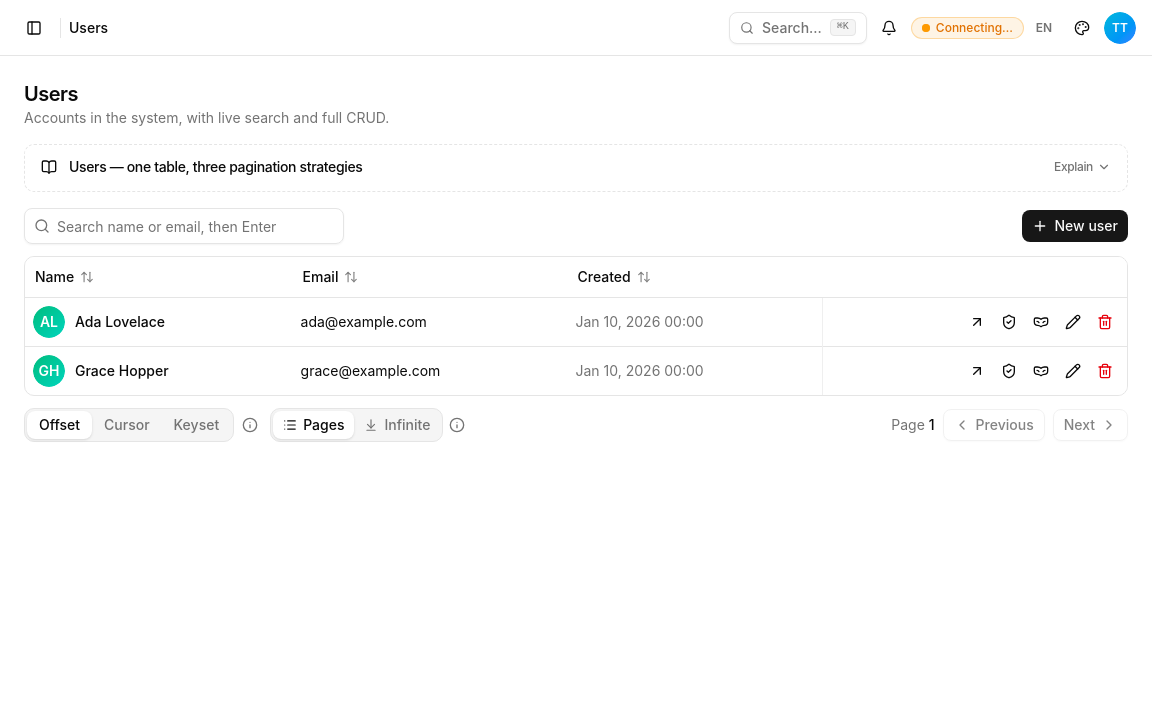
Test: admin users table › edits a user through the dialog
The width and height of the screenshot is (1152, 720).
Expected: the heading "Users" is shown, [24,82,78,106]
Click the button named "Edit ada@example.com" at (1073, 322), box [1059,308,1087,336]
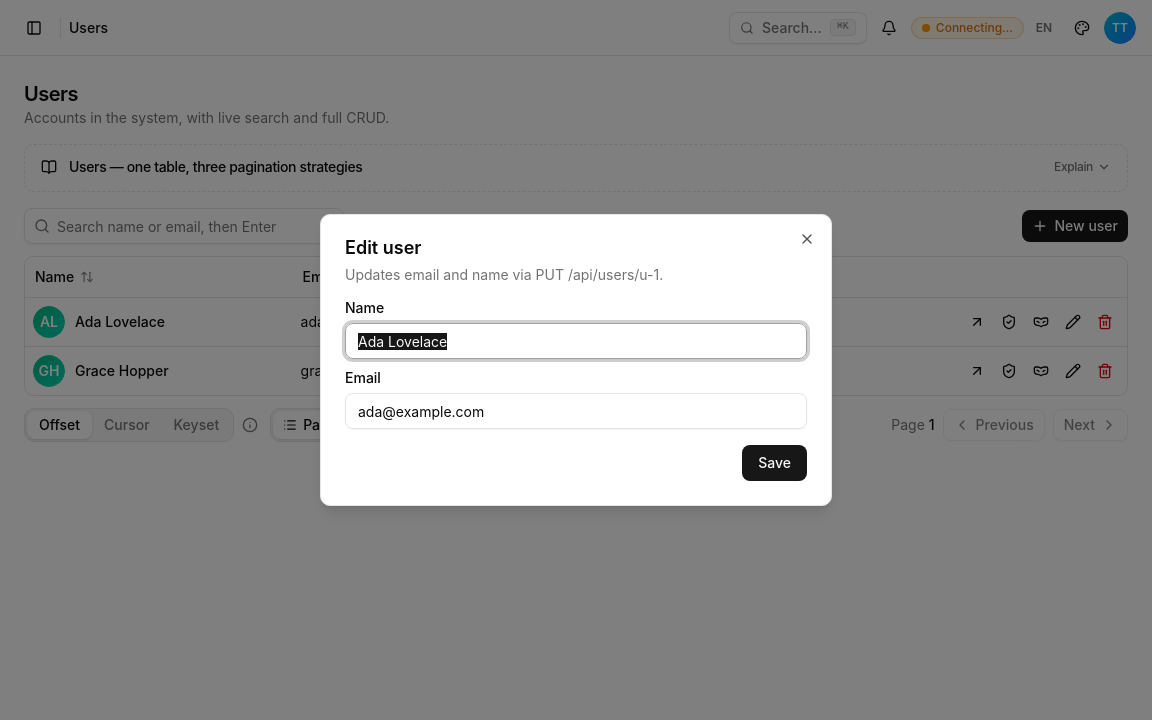
Now the heading "Edit user" is shown, box [345,237,421,258]
Type "Ada King" into the field labelled "Name" at (576, 341), box [345,323,807,359]
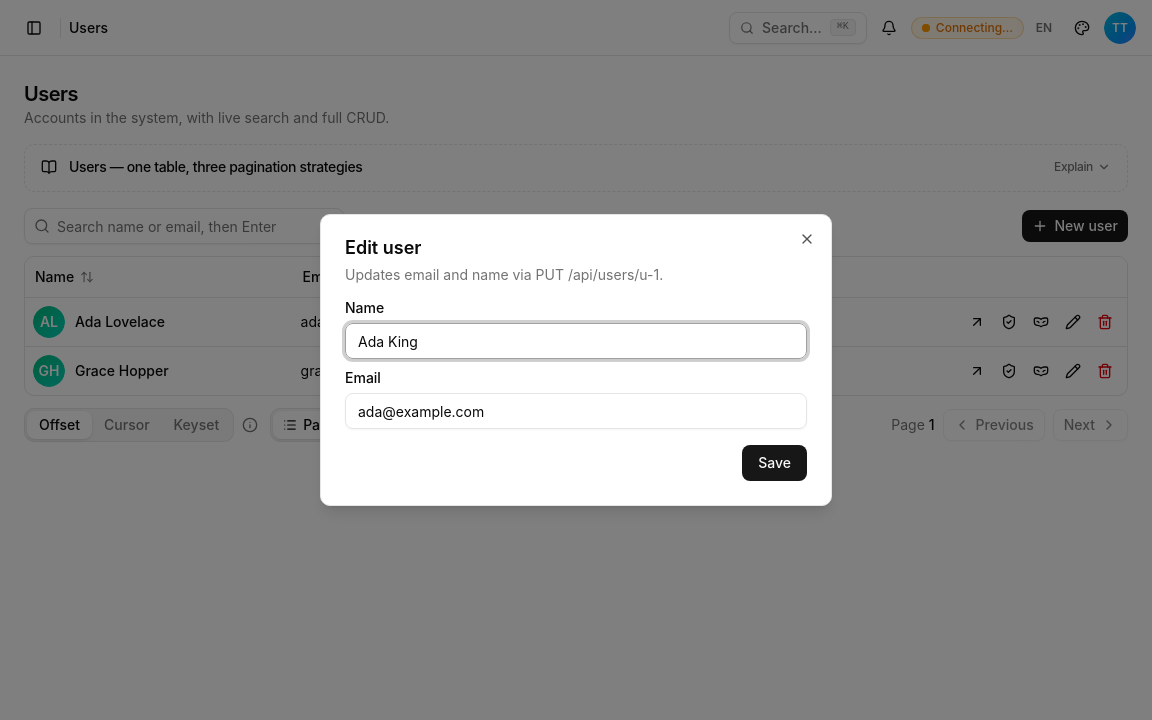
Click the button "Save" at (775, 463), box [742,445,807,481]
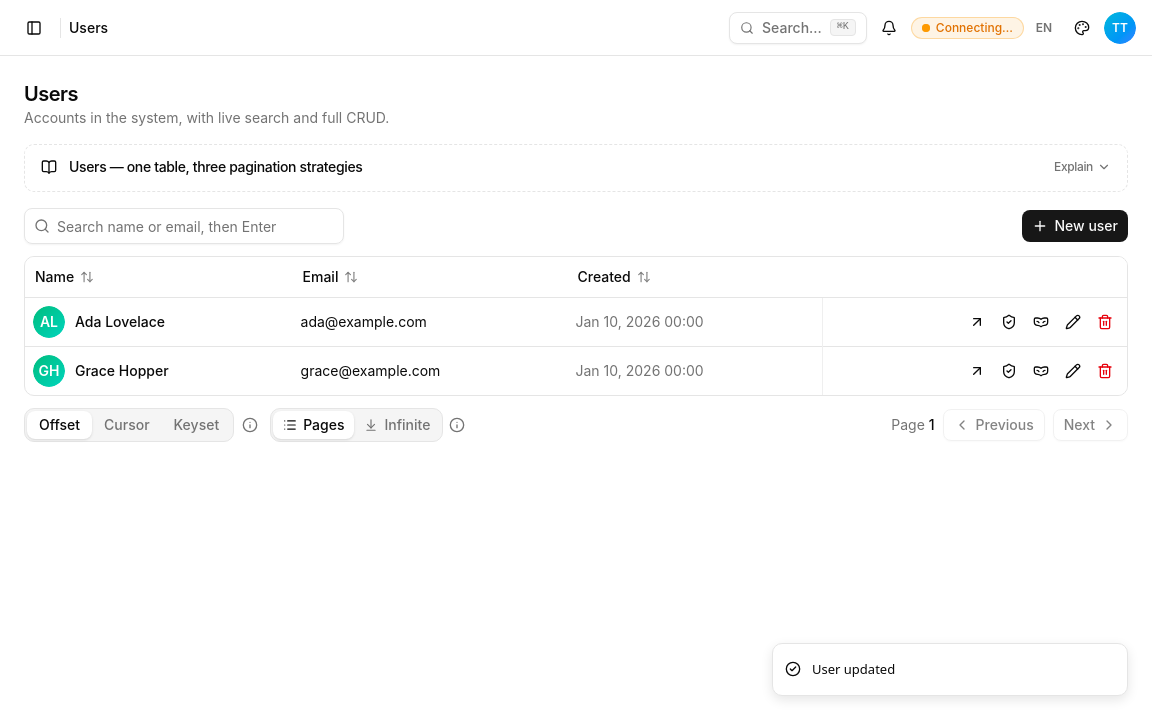
Now the text "User updated" is shown, box [812,660,895,679]
